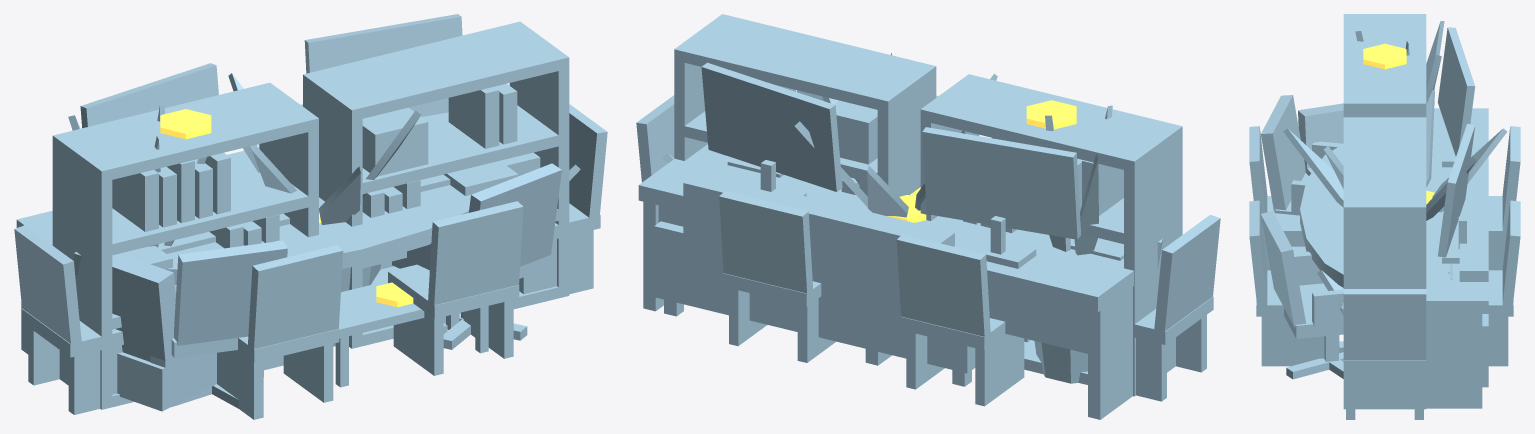
3 renders of one model, left to right at view 1: azimuth 30°, elevation 25°; view 2: azimuth 150°, elevation 25°; view 3: azimuth 270°, elevation 25°, orthographic. The views are drawn at different scales.
Visible parts, largest first — view 1: ops, capability, user_flow, integration, generic; view 2: user_flow, ops, capability, integration, generic; view 3: user_flow, ops, capability, integration, generic.
Part boxes in pixels (x1,y1,x2,y2): ops: (52, 21, 569, 409); capability: (14, 104, 607, 419); user_flow: (16, 14, 561, 408); integration: (74, 112, 488, 411); generic: (68, 73, 580, 346); user_flow: (638, 62, 1133, 419); ops: (674, 14, 1182, 396); capability: (636, 95, 1220, 406); integration: (654, 170, 1162, 386); generic: (662, 53, 1112, 383); user_flow: (1260, 27, 1488, 408); ops: (1343, 14, 1426, 409); capability: (1249, 126, 1520, 419); integration: (1292, 103, 1488, 387); generic: (1283, 21, 1507, 314).
Size of the model in its own units: 0.0514 by 0.0229 by 0.0262.
